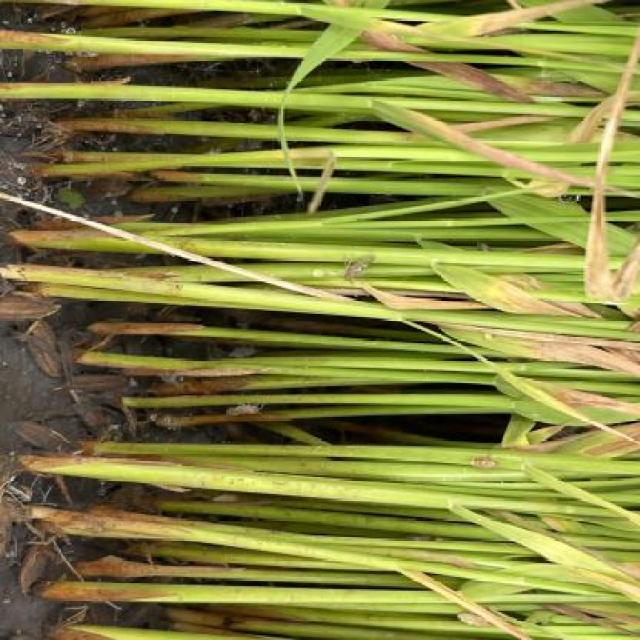wereng pada daun padi: (334, 248, 377, 291)
